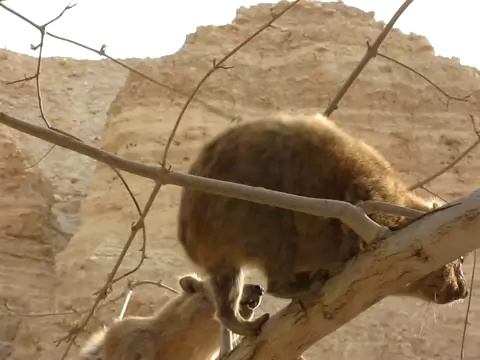Rock Hyrex: (181, 113, 470, 335)
